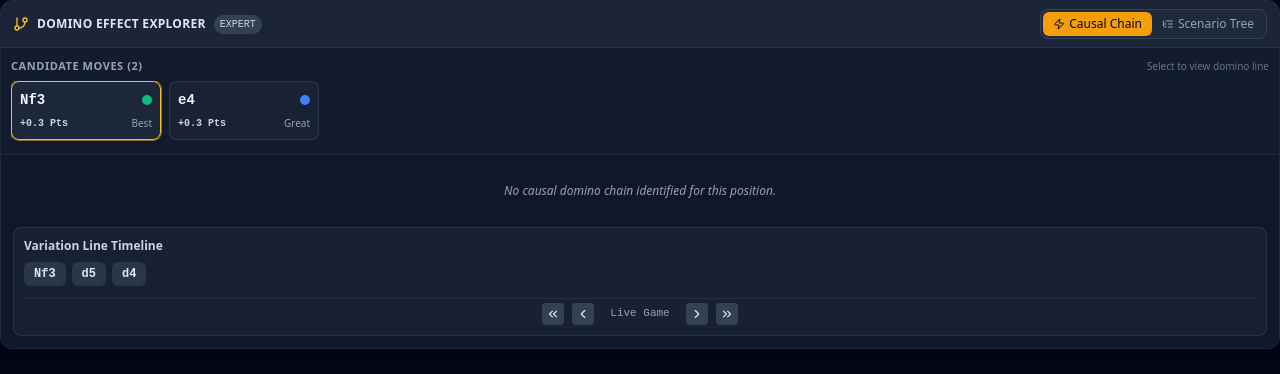
Test: DominoExplorer Component › toggles between Causal Chain and Scenario Tree views
Expected: the text "Causal Chain" is shown, [1069, 16, 1142, 32]
Expected: the text "Scenario Tree" is shown, [1178, 16, 1254, 32]
Click Scenario Tree tab
Click the button "Scenario Tree".
click(1208, 24)  # box [1152, 12, 1264, 36]
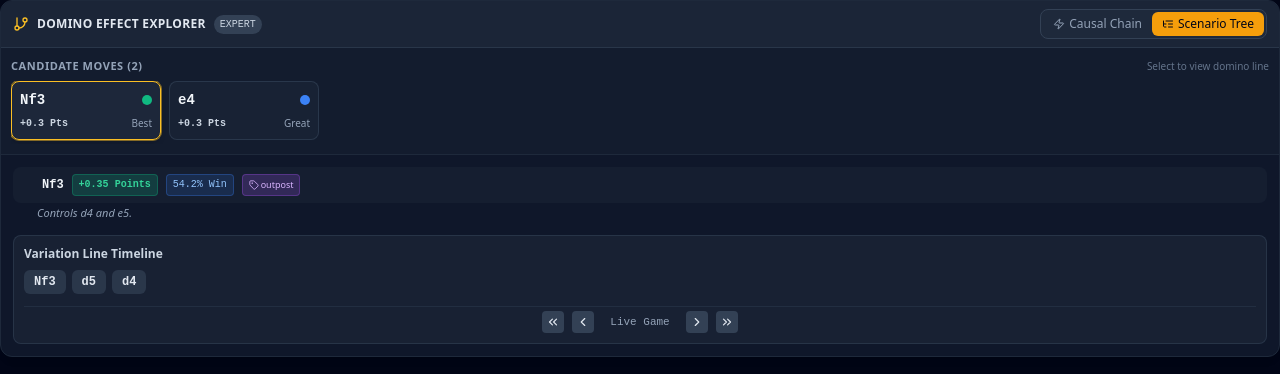
Expected: the text "Controls d4 and e5." is shown, [37, 204, 132, 220]
